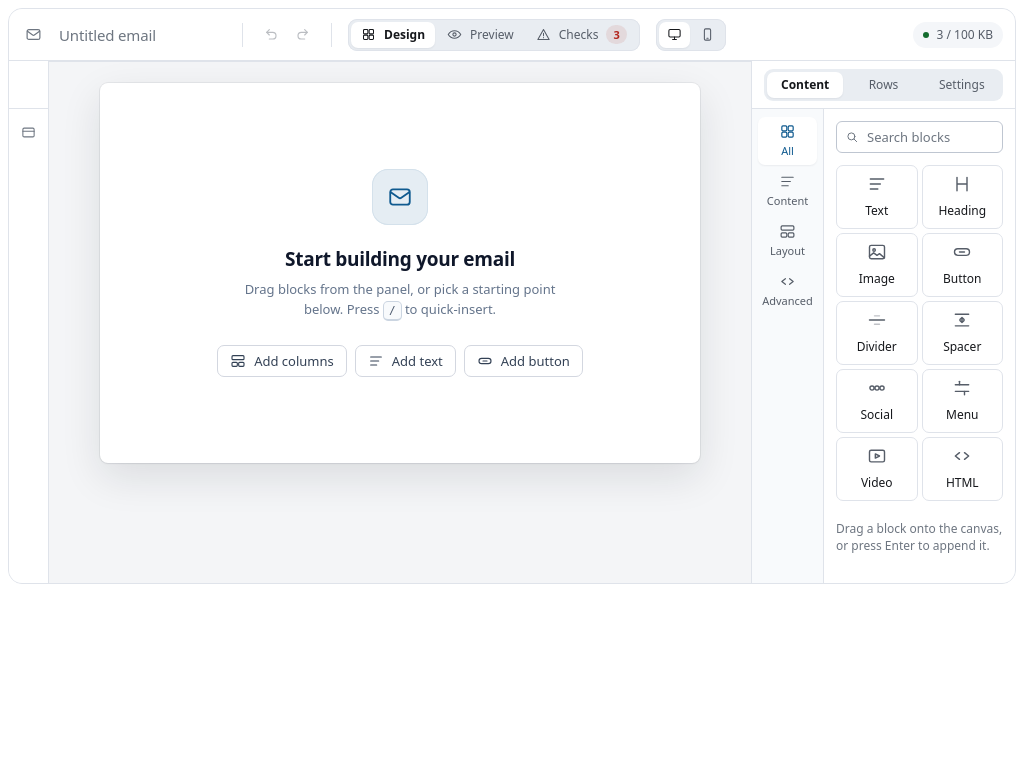
Test: adding blocks › appends the tile you click and selects what it added
This screenshot has width=1024, height=768.
Click the button "Button": (962, 265) [922,233,1003,297]
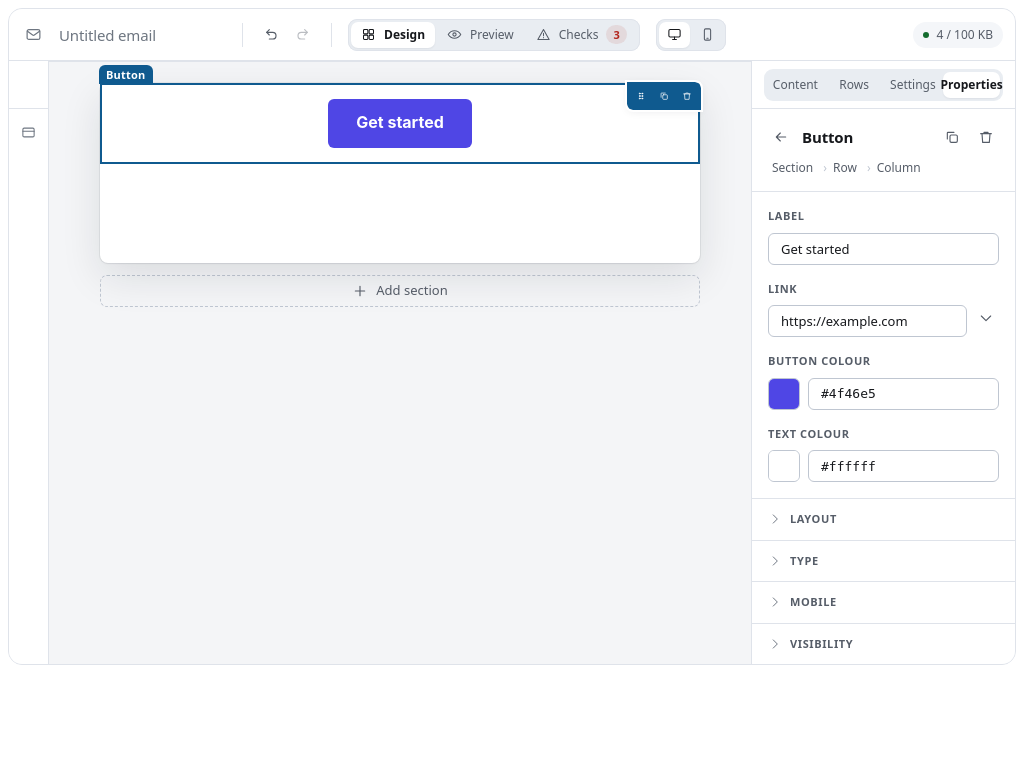
Expected: the tab "Properties" is shown, [943,72,1000,98]
Expected: the 2nd text "Button" is shown, [802,127,853,147]
